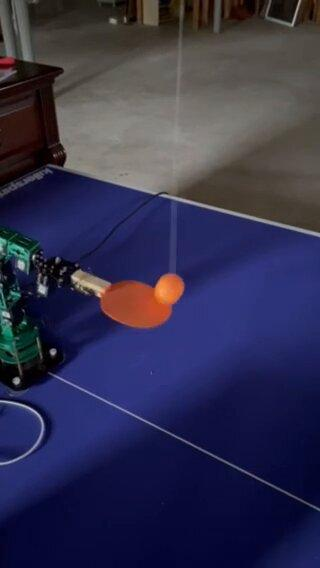oball: (153, 273, 183, 302)
